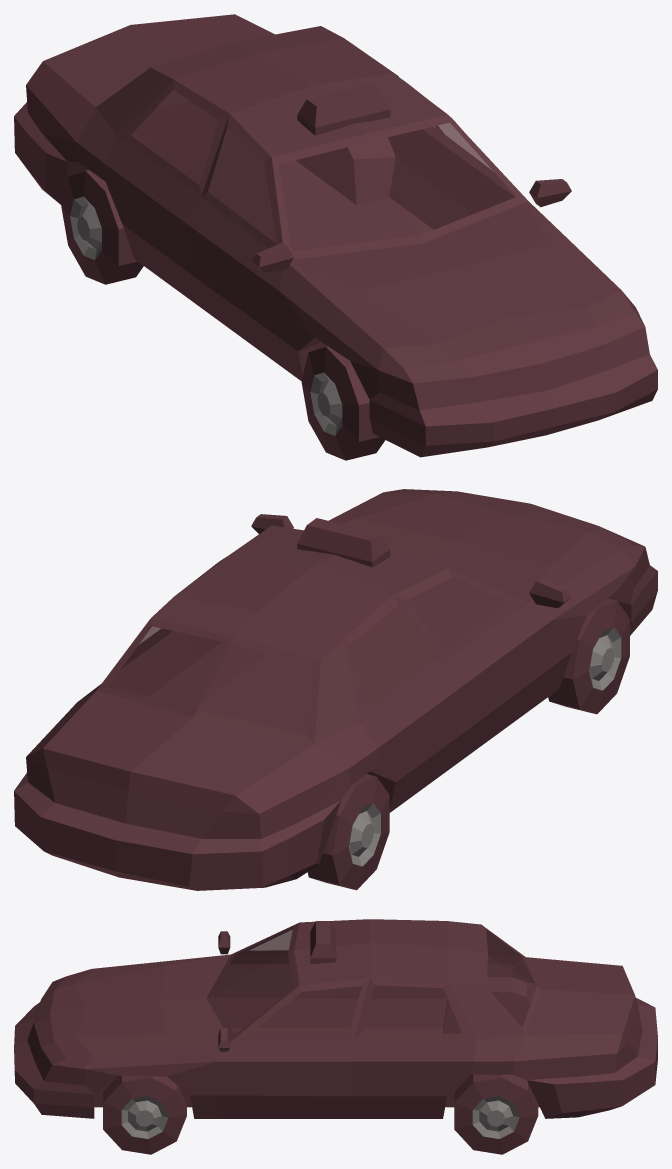
File: car-taxi-china.fbx
3 views of the same model, one above another, from view 1: azimuth 30°, elevation 25°; view 2: azimuth 150°, elevation 25°; view 3: azimuth 270°, elevation 25° (orthographic). The views are drawn at different scales.
Visible parts, largest first — view 1: car-taxi-china-base, car-taxi-china-wheel_FR, car-taxi-china-wheel_BR; view 2: car-taxi-china-base, car-taxi-china-wheel_BR, car-taxi-china-wheel_FR; view 3: car-taxi-china-base, car-taxi-china-wheel_BL, car-taxi-china-wheel_FL.
Part boxes in pixels (left/top/right/bottom): car-taxi-china-base: left=14, top=14, right=657, bottom=457; car-taxi-china-wheel_FR: left=301, top=346, right=385, bottom=460; car-taxi-china-wheel_BR: left=61, top=170, right=143, bottom=284; car-taxi-china-base: left=14, top=489, right=657, bottom=890; car-taxi-china-wheel_BR: left=307, top=774, right=389, bottom=890; car-taxi-china-wheel_FR: left=548, top=598, right=629, bottom=714; car-taxi-china-base: left=14, top=919, right=657, bottom=1118; car-taxi-china-wheel_BL: left=454, top=1074, right=538, bottom=1154; car-taxi-china-wheel_FL: left=103, top=1075, right=186, bottom=1154.
Size of the model in its own units: 2.19 by 1.59 by 5.35.
